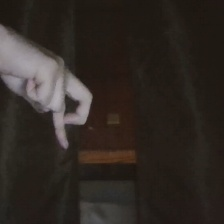P: (1, 11, 100, 158)
